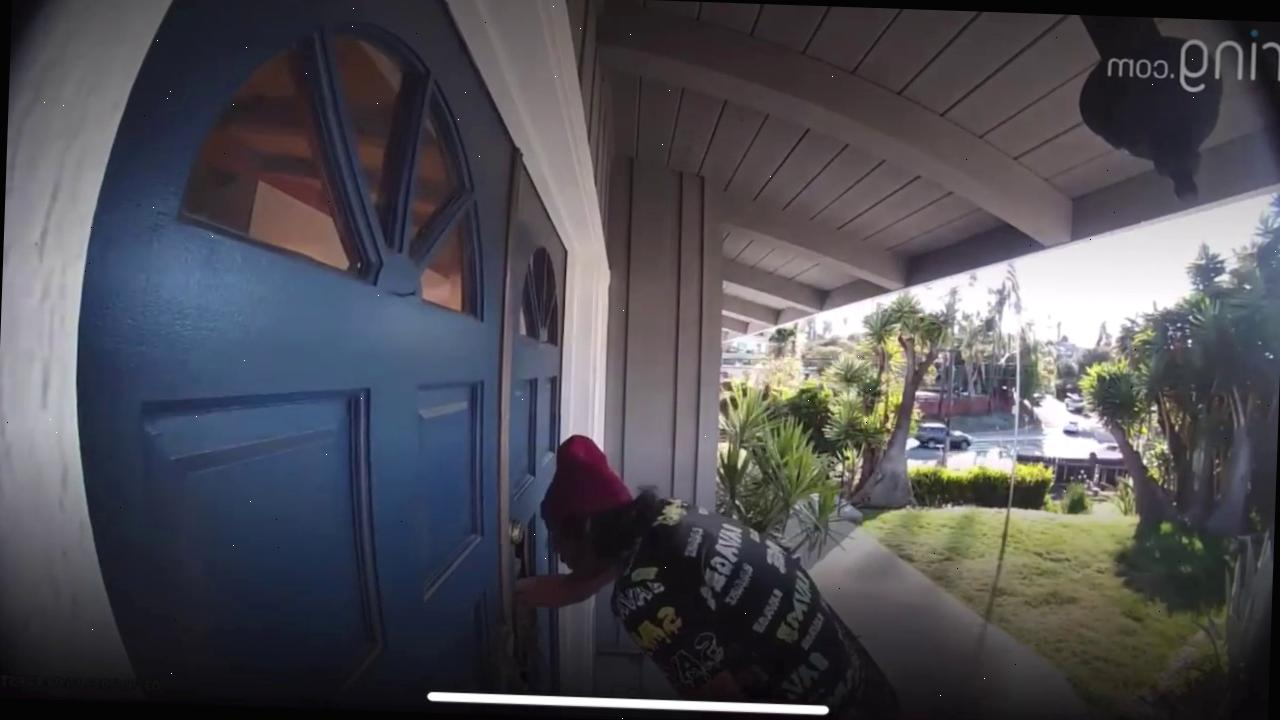suspicion: (466, 406, 918, 720)
